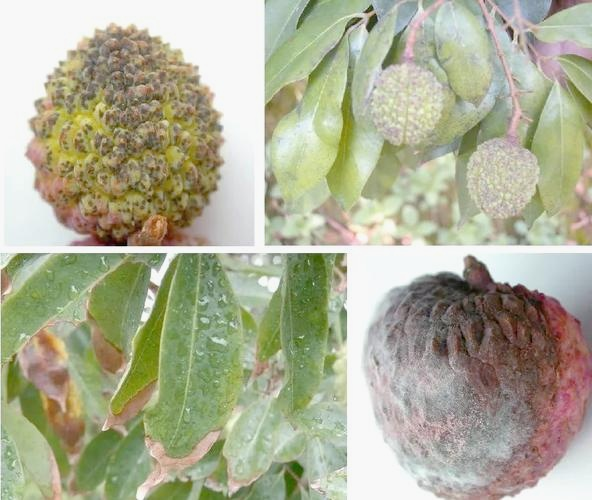Anthracnose: (36, 321, 293, 449), (36, 26, 219, 203), (374, 297, 526, 479)
